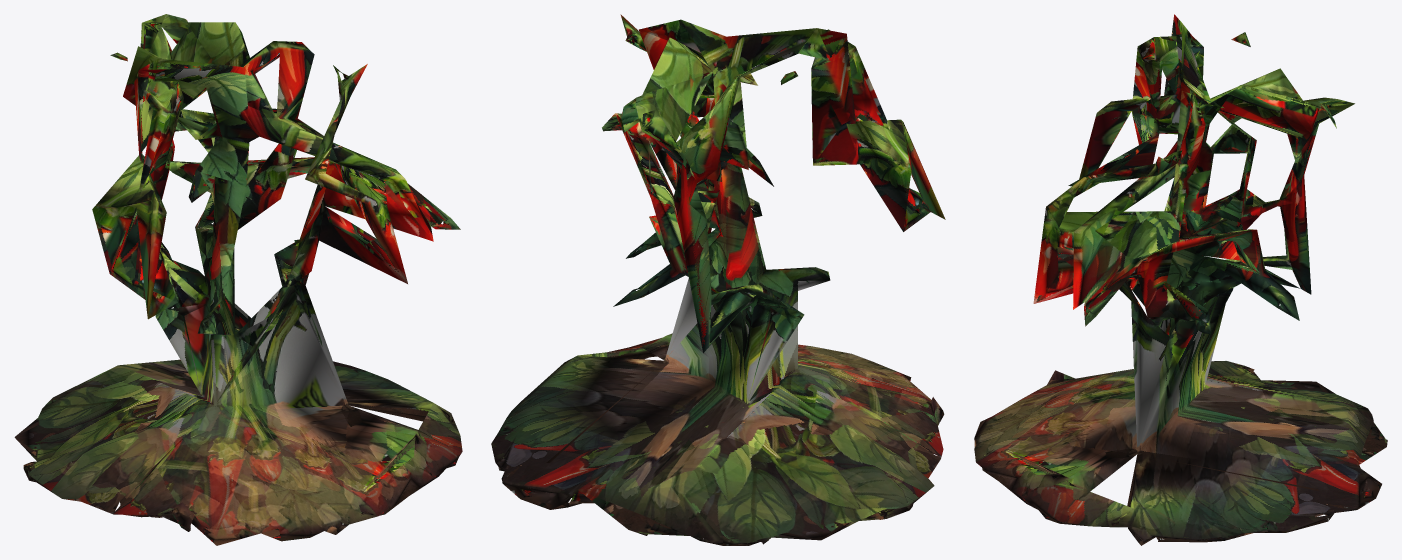
Rendered from Crop_Chili_Ready.fbx.
3 views of the same model, side by side, from view 1: azimuth 30°, elevation 25°; view 2: azimuth 150°, elevation 25°; view 3: azimuth 270°, elevation 25° (orthographic). The views are drawn at different scales.
Visible parts, largest first — view 1: texture_mapping; view 2: texture_mapping; view 3: texture_mapping.
Boxes of the visible parts, x1=… form: texture_mapping: x1=14, y1=14, x2=462, y2=545; texture_mapping: x1=491, y1=14, x2=945, y2=545; texture_mapping: x1=974, y1=14, x2=1387, y2=545.
Bounding box in the file's own units: 0.7559 × 0.7441 × 0.792.
Materials: 1 (1 with a texture image).
